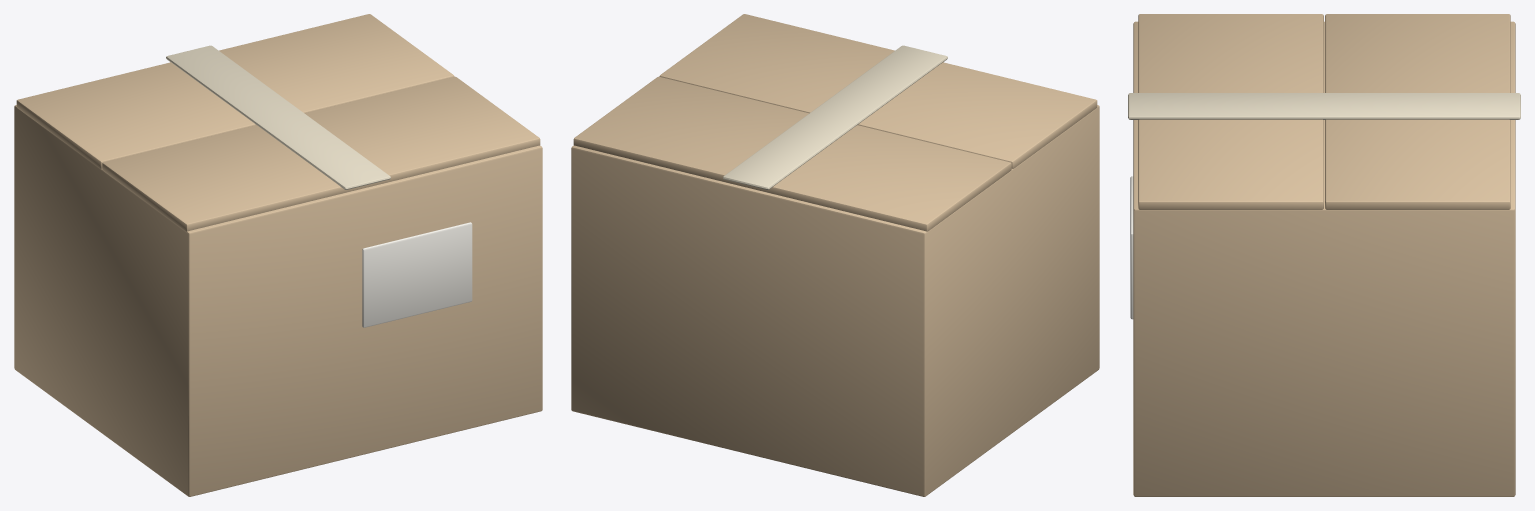
The model's file is carton.glb.
3 views of the same model, side by side, from view 1: azimuth 30°, elevation 25°; view 2: azimuth 150°, elevation 25°; view 3: azimuth 270°, elevation 25° (orthographic). The views are drawn at different scales.
Visible parts, largest first — view 1: carton; view 2: carton; view 3: carton.
Part boxes in pixels (<box>): carton: <box>14,14,542,496</box>; carton: <box>571,14,1099,496</box>; carton: <box>1128,14,1520,496</box>.
Size of the model in its own units: 0.42 by 0.311 by 0.37.
